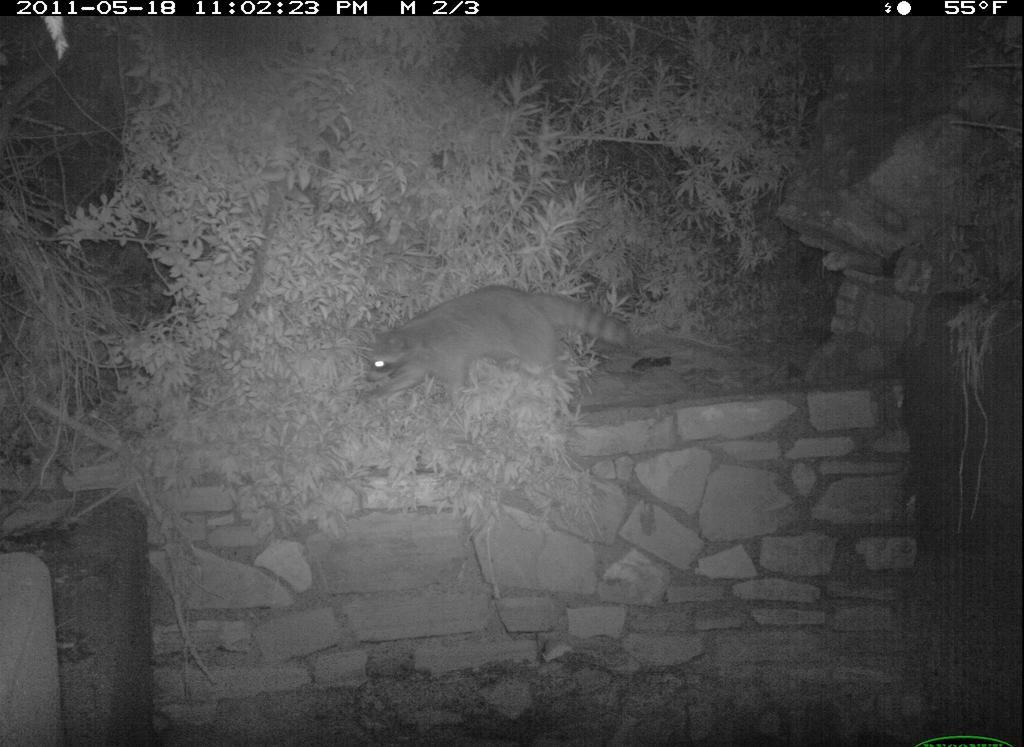raccoon: (356, 283, 661, 418)
